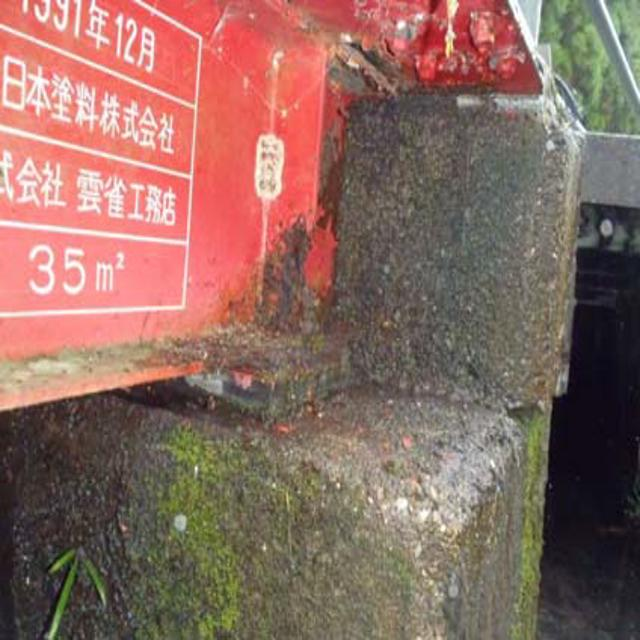corrosion: (183, 213, 367, 426)
